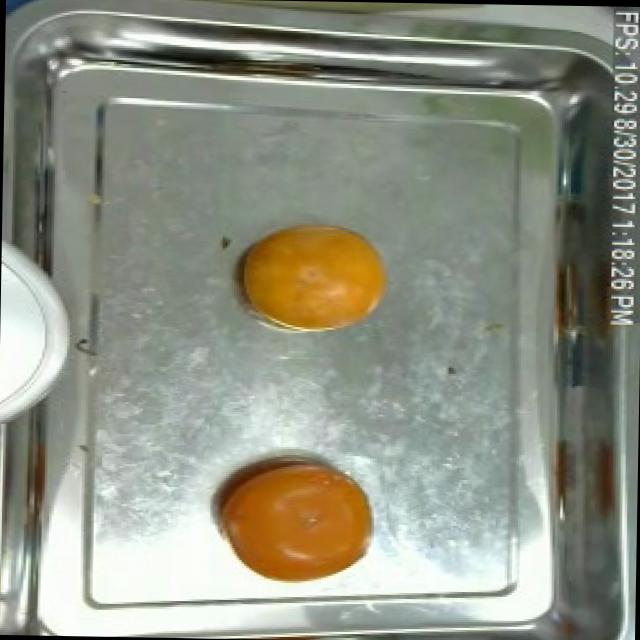Fruit: (208, 446, 384, 591), (228, 212, 396, 334)
